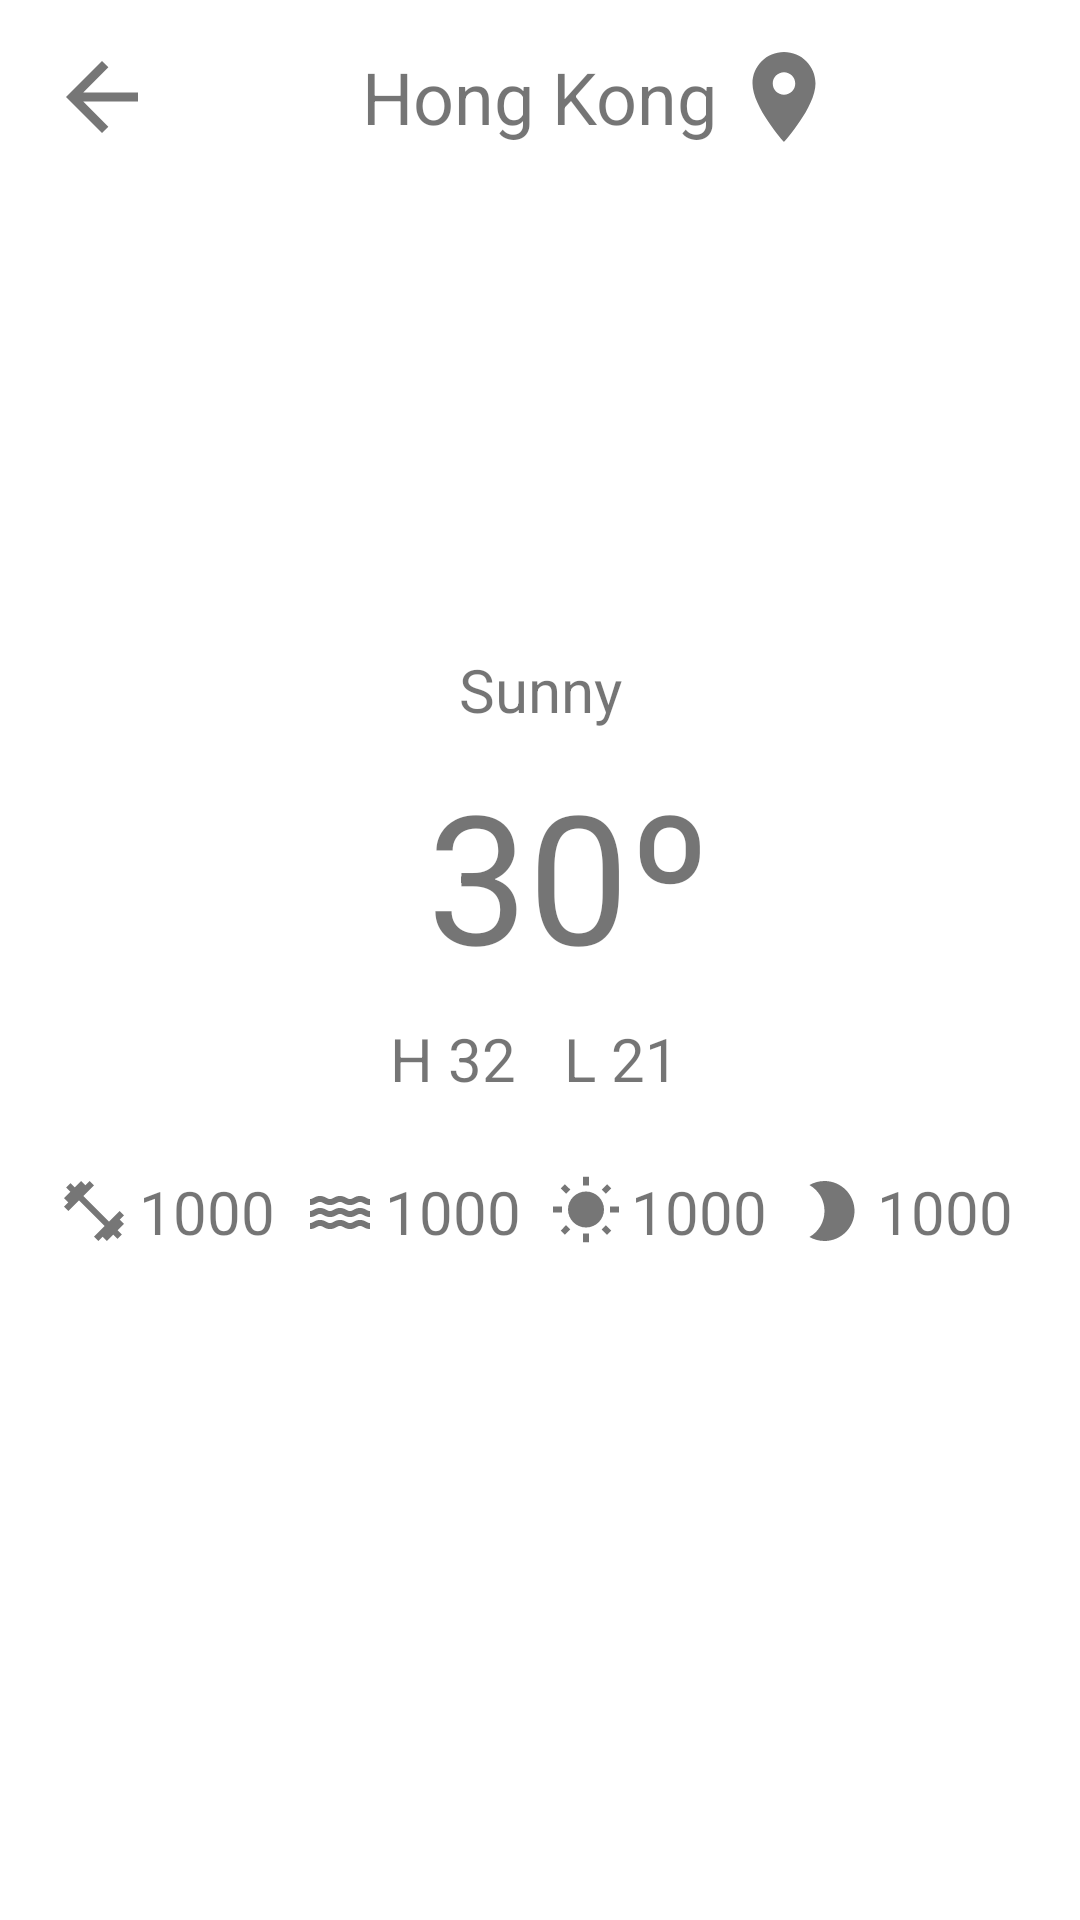

Point at icon controls on the screen. Image size 1080×1920, points as point (x, y).
arrow back: point (102, 97)
fitness center: point (94, 1211)
location on: point (784, 97)
mode night: point (832, 1211)
sunny: point (586, 1209)
water: point (340, 1212)
